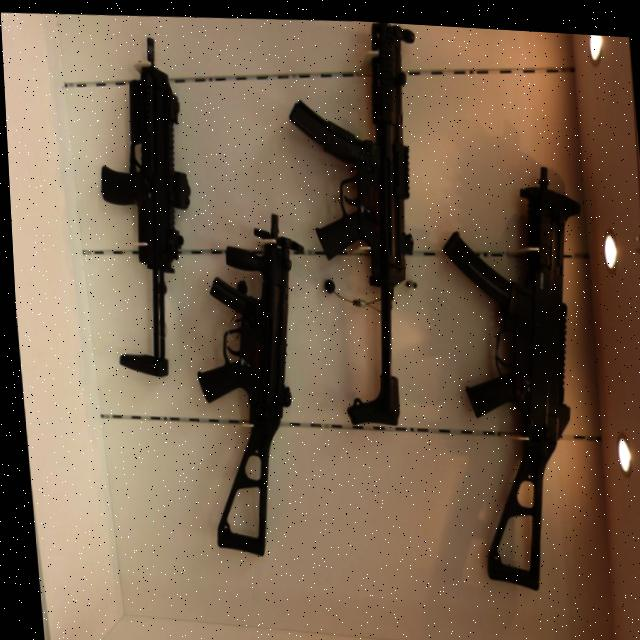firearm: (433, 152, 608, 590), (280, 13, 446, 425), (179, 203, 324, 558), (87, 31, 204, 379)
